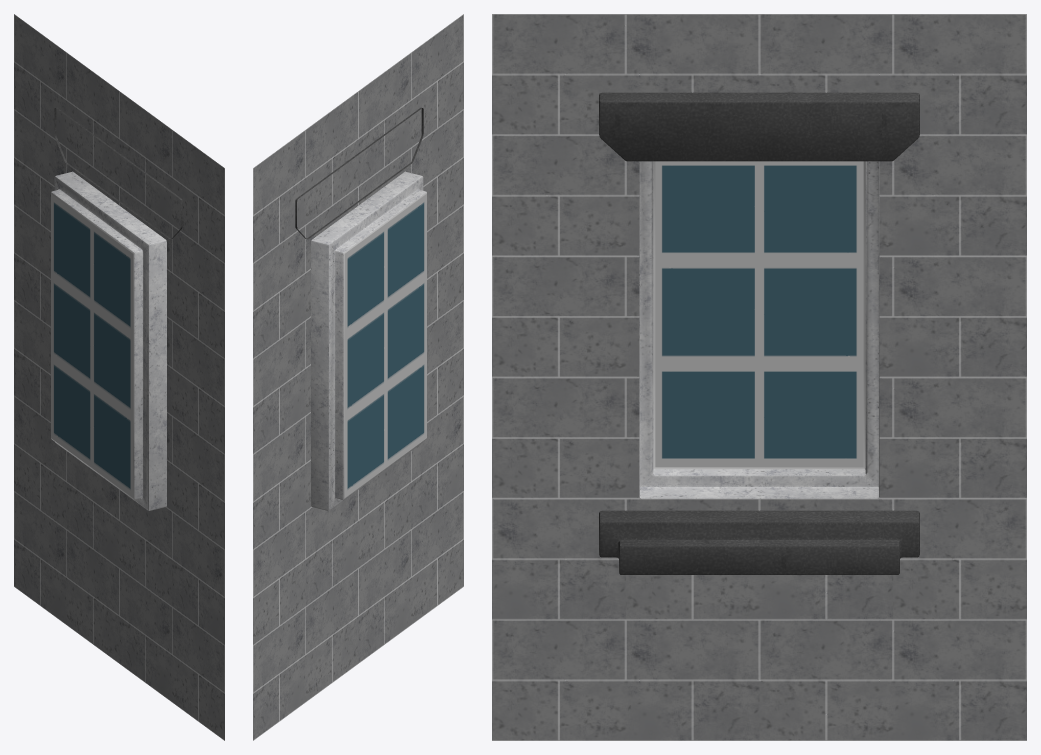
Rendered from WallWindow.fbx.
3 views of the same model, side by side, from view 1: azimuth 30°, elevation 25°; view 2: azimuth 150°, elevation 25°; view 3: azimuth 270°, elevation 25° (orthographic). The views are drawn at different scales.
Parts seen in each view (by area): view 1: WallWindow; view 2: WallWindow; view 3: WallWindow.
Boxes of the visible parts, x1,y1,x2,y2 form: WallWindow: [14, 14, 224, 740]; WallWindow: [253, 14, 463, 740]; WallWindow: [492, 14, 1026, 740].
Size of the model in its own units: 200 by 300 by 30.
